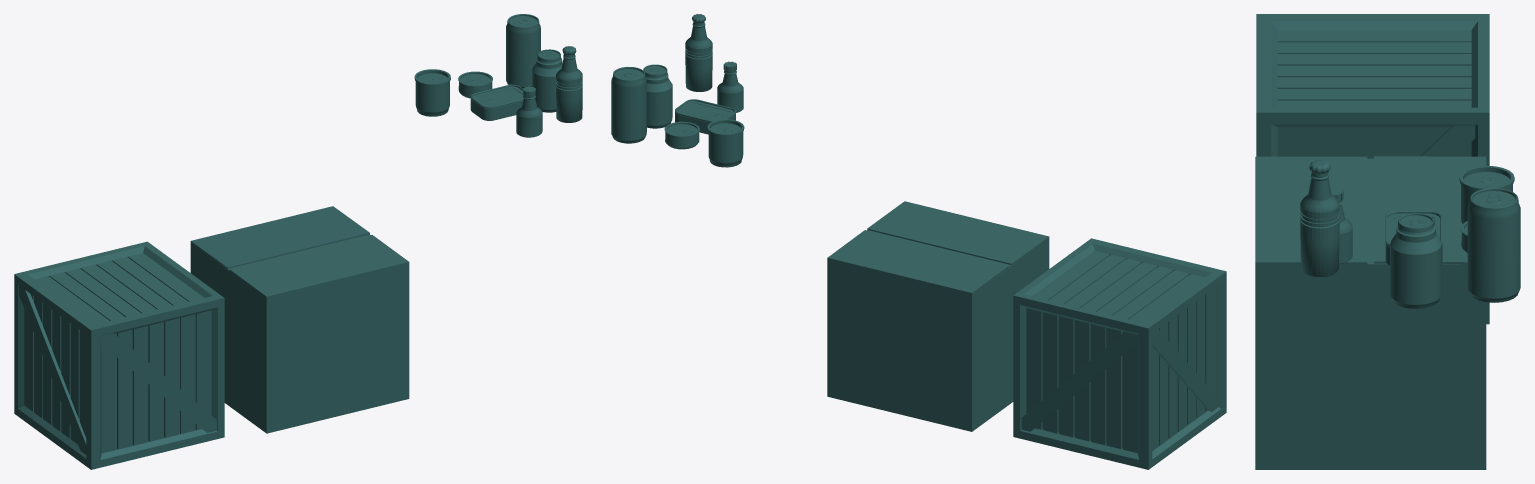
The model's file is products low.fbx.
The picture shows the model from 3 angles, left to right: view 1: azimuth 30°, elevation 25°; view 2: azimuth 150°, elevation 25°; view 3: azimuth 270°, elevation 25°; orthographic projection. The views are drawn at different scales.
Parts seen in each view (by area): view 1: product_11_low, product_10_low, product_05_low, product_07_low, product_03_low, product_02_low, product_08_low, product_04_low, product_06_low; view 2: product_11_low, product_10_low, product_05_low, product_07_low, product_03_low, product_08_low, product_02_low, product_06_low, product_04_low; view 3: product_10_low, product_11_low, product_05_low, product_08_low, product_07_low, product_03_low, product_02_low, product_04_low.
Boxes of the visible parts, x1=… form: product_11_low: x1=14, y1=241, x2=224, y2=469; product_10_low: x1=190, y1=206, x2=409, y2=433; product_05_low: x1=506, y1=14, x2=540, y2=88; product_07_low: x1=556, y1=53, x2=582, y2=122; product_03_low: x1=414, y1=69, x2=450, y2=116; product_02_low: x1=470, y1=84, x2=523, y2=120; product_08_low: x1=532, y1=49, x2=562, y2=112; product_04_low: x1=516, y1=95, x2=542, y2=137; product_06_low: x1=458, y1=71, x2=492, y2=98; product_11_low: x1=1013, y1=238, x2=1226, y2=469; product_10_low: x1=827, y1=201, x2=1049, y2=431; product_05_low: x1=611, y1=66, x2=646, y2=143; product_07_low: x1=685, y1=22, x2=712, y2=91; product_03_low: x1=707, y1=119, x2=744, y2=167; product_08_low: x1=643, y1=64, x2=672, y2=128; product_02_low: x1=675, y1=99, x2=735, y2=134; product_06_low: x1=664, y1=121, x2=699, y2=149; product_04_low: x1=717, y1=71, x2=743, y2=112; product_10_low: x1=1255, y1=156, x2=1486, y2=469; product_11_low: x1=1256, y1=14, x2=1489, y2=324; product_05_low: x1=1467, y1=188, x2=1520, y2=302; product_08_low: x1=1390, y1=213, x2=1441, y2=308; product_07_low: x1=1300, y1=171, x2=1339, y2=276; product_03_low: x1=1459, y1=165, x2=1514, y2=223; product_02_low: x1=1385, y1=211, x2=1442, y2=265; product_04_low: x1=1339, y1=201, x2=1352, y2=264.
Bounding box in the file's own units: 207 × 110 × 59.85.
